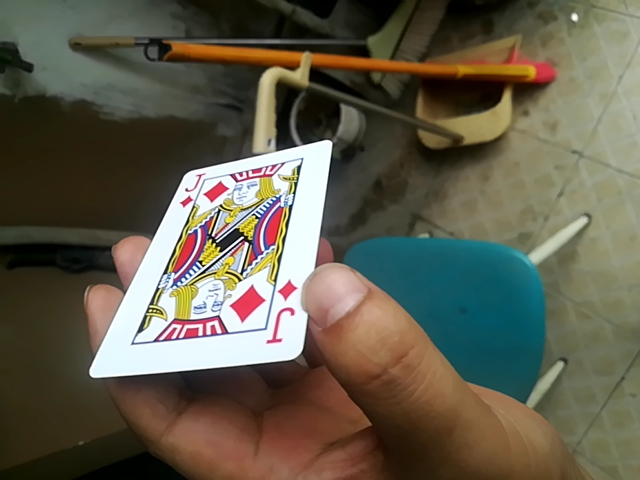fk j: (89, 135, 326, 380)
